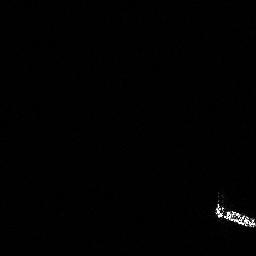ship: (211, 192, 256, 230)
